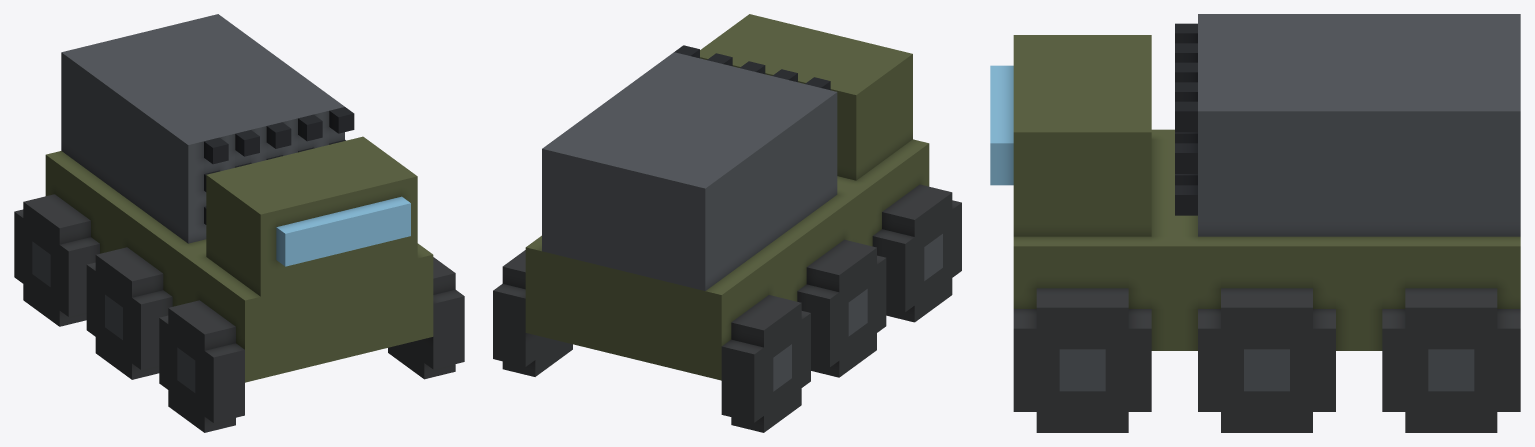
File: u_rocket.glb
The picture shows the model from 3 angles, left to right: view 1: azimuth 30°, elevation 25°; view 2: azimuth 150°, elevation 25°; view 3: azimuth 270°, elevation 25°; orthographic projection. The views are drawn at different scales.
Parts seen in each view (by area): view 1: u_rocket_body; view 2: u_rocket_body; view 3: u_rocket_body.
Boxes of the visible parts, x1,y1,x2,y2 form: u_rocket_body: [14, 14, 464, 432]; u_rocket_body: [493, 14, 961, 432]; u_rocket_body: [990, 14, 1520, 432].
Bounding box in the file's own units: 1 × 0.875 × 1.44.
Materials: 1 (1 with a texture image).
